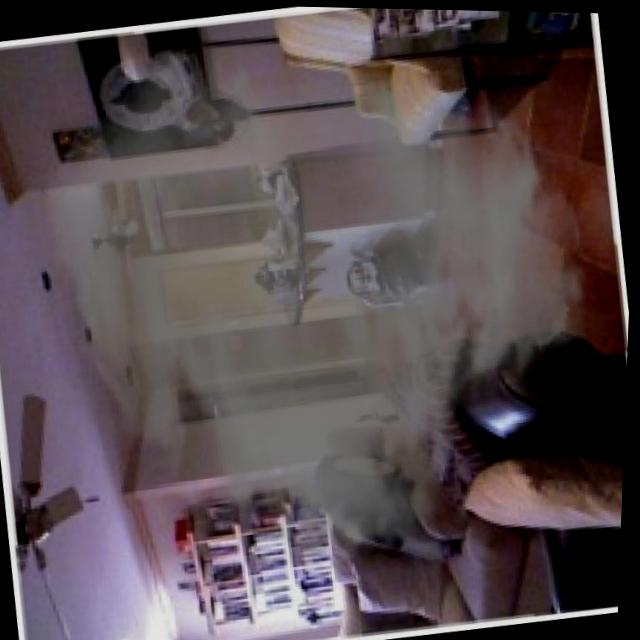Smoke: (23, 9, 624, 618)
